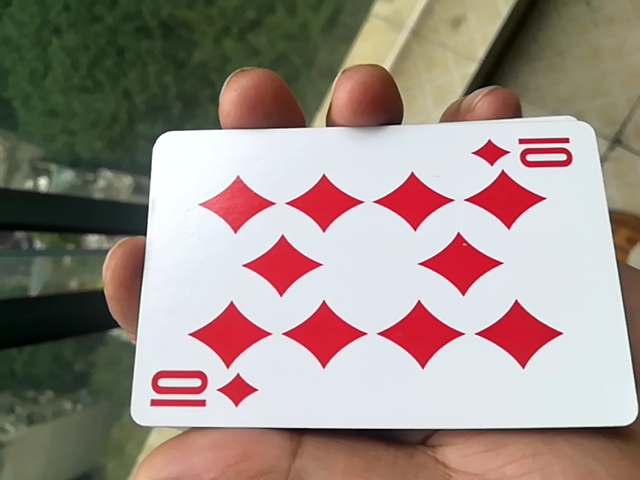fk 10: (121, 127, 630, 446)
